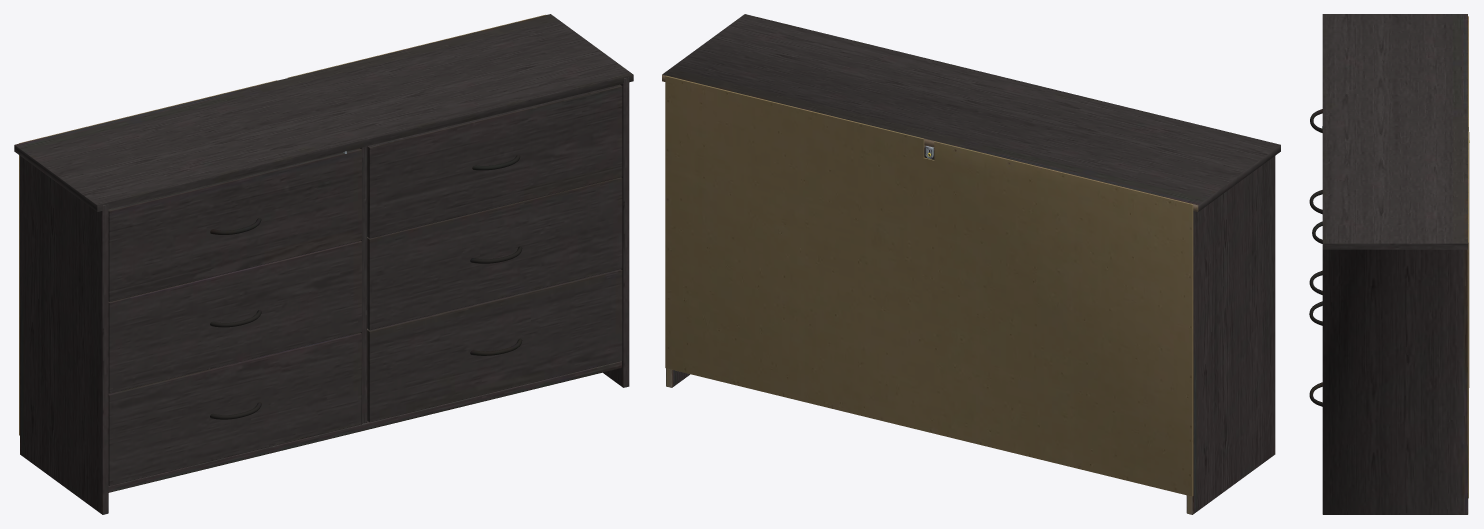
Rendered from B07PVBJ7X8.glb.
The picture shows the model from 3 angles, left to right: view 1: azimuth 30°, elevation 25°; view 2: azimuth 150°, elevation 25°; view 3: azimuth 270°, elevation 25°; orthographic projection. The views are drawn at different scales.
Visible parts, largest first — view 1: RootNode; view 2: RootNode; view 3: RootNode.
Boxes of the visible parts, left/top/right/bottom form: RootNode: left=14, top=14, right=633, bottom=514; RootNode: left=662, top=14, right=1280, bottom=514; RootNode: left=1309, top=14, right=1469, bottom=514.
Size of the model in its own units: 1.36 by 0.7548 by 0.4005.
1 material, 1 textured.
